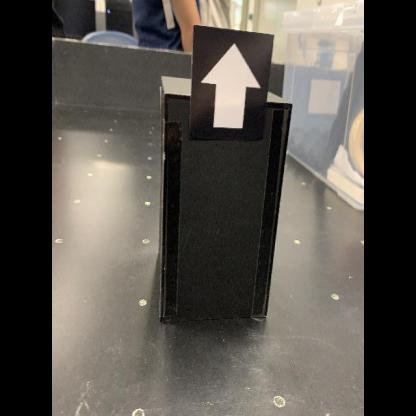up: (188, 25, 276, 143)
